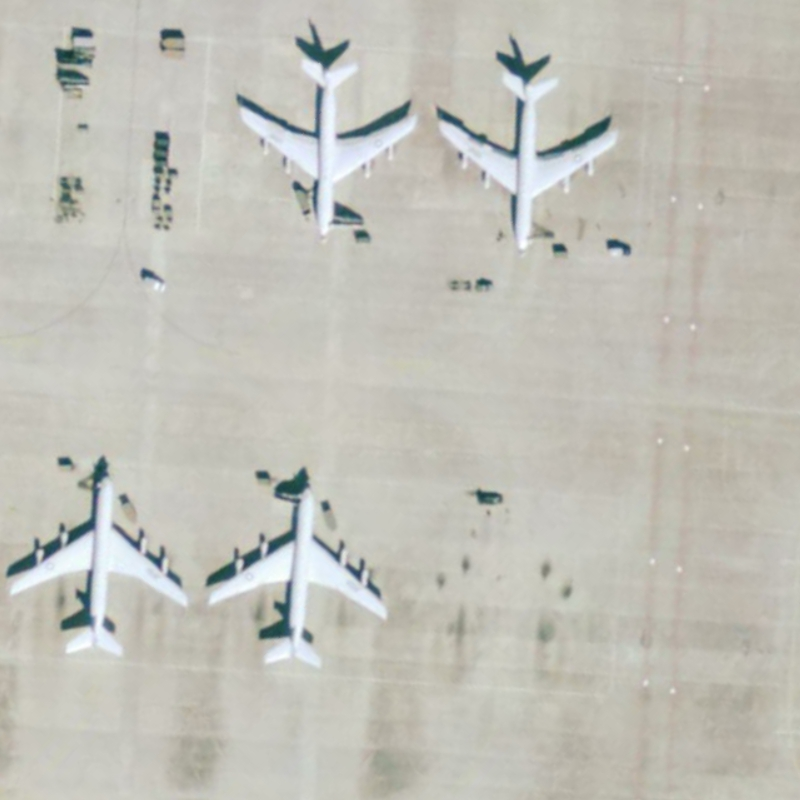A11: (434, 58, 624, 258), (201, 480, 395, 672), (2, 467, 194, 660), (229, 55, 423, 242)
